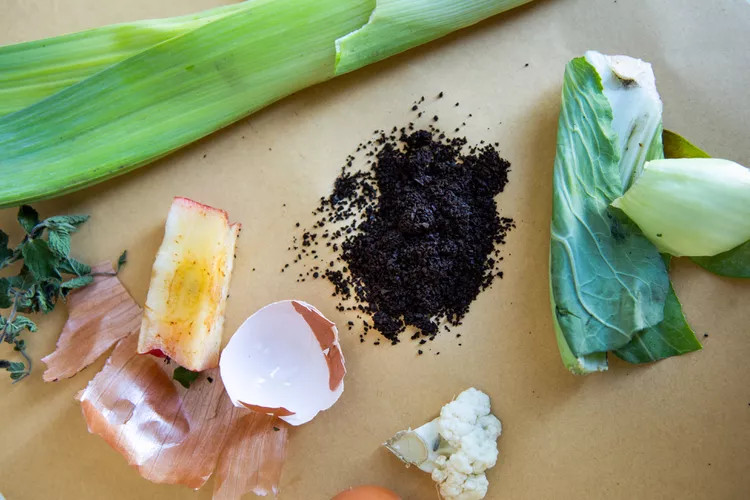food: (0, 0, 541, 200), (0, 203, 306, 489), (546, 33, 750, 381), (293, 116, 489, 357), (113, 160, 230, 386), (194, 291, 360, 419), (386, 382, 541, 500)
